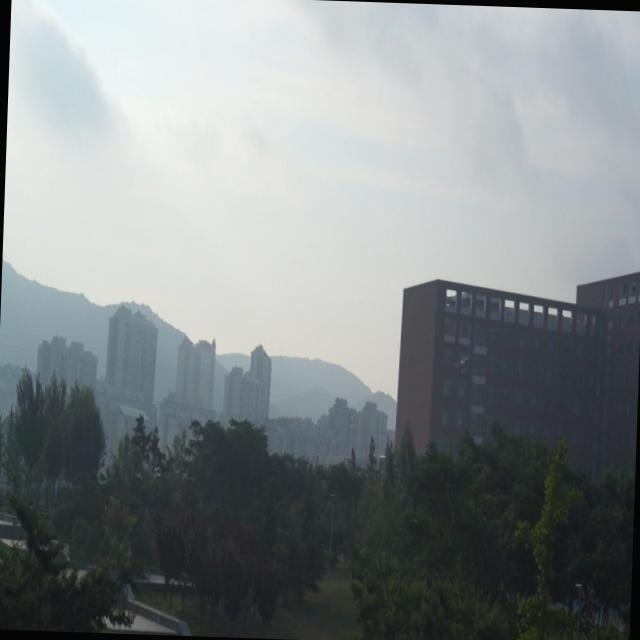drone: (454, 348, 472, 376)
